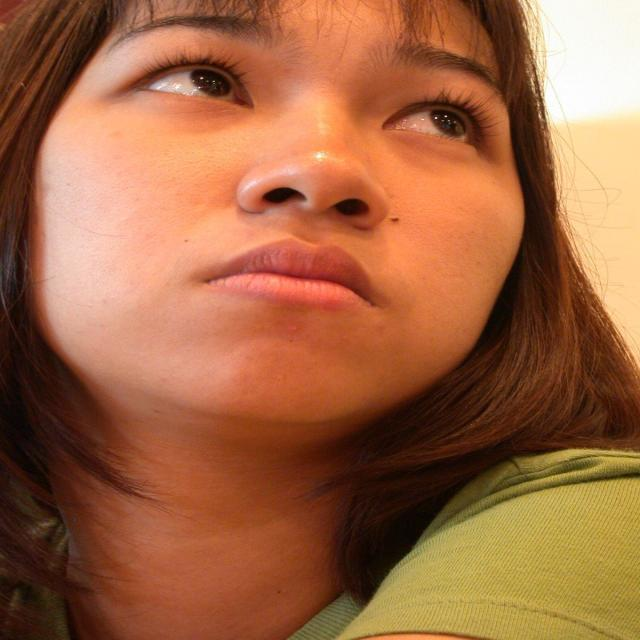no-glass: (115, 55, 499, 150)
